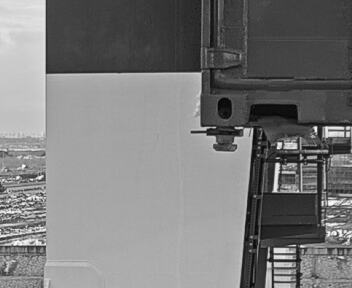twist_lock_1: (200, 121, 246, 157)
